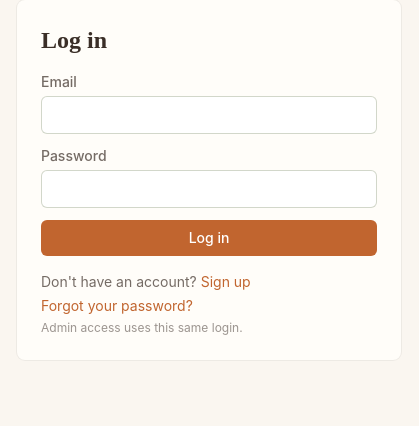
Test: LoginForm › shows an error message when login fails
The image size is (419, 426).
Type "admin@example.com" into the field labelled "Email" at (209, 115), box [41, 96, 377, 134]
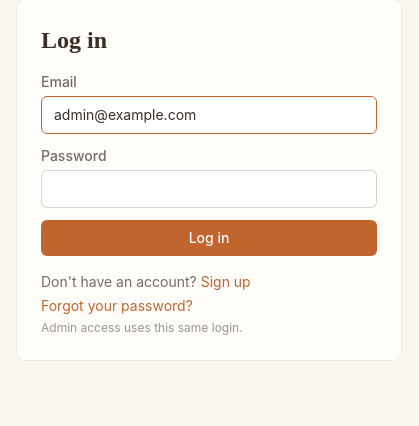
Type "wrong" into the password field labelled "Password" at (209, 189), box [41, 170, 377, 208]
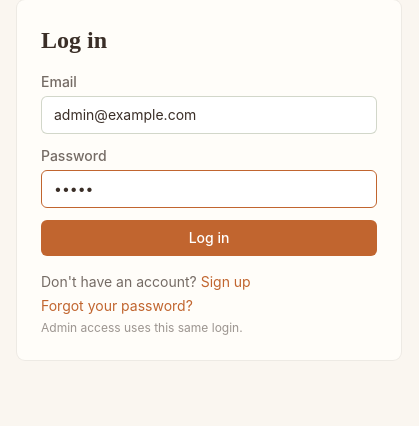
Click the button "Log in" at (209, 238), box [41, 220, 377, 256]
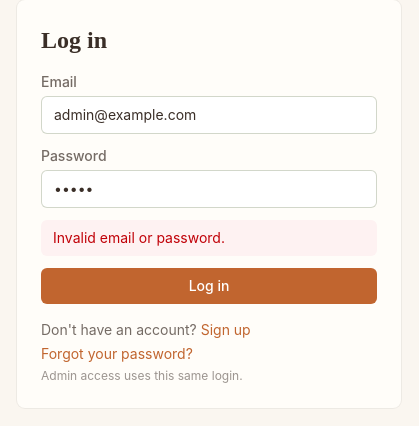
Now the message reads "Invalid email or password.", box [53, 229, 225, 246]
